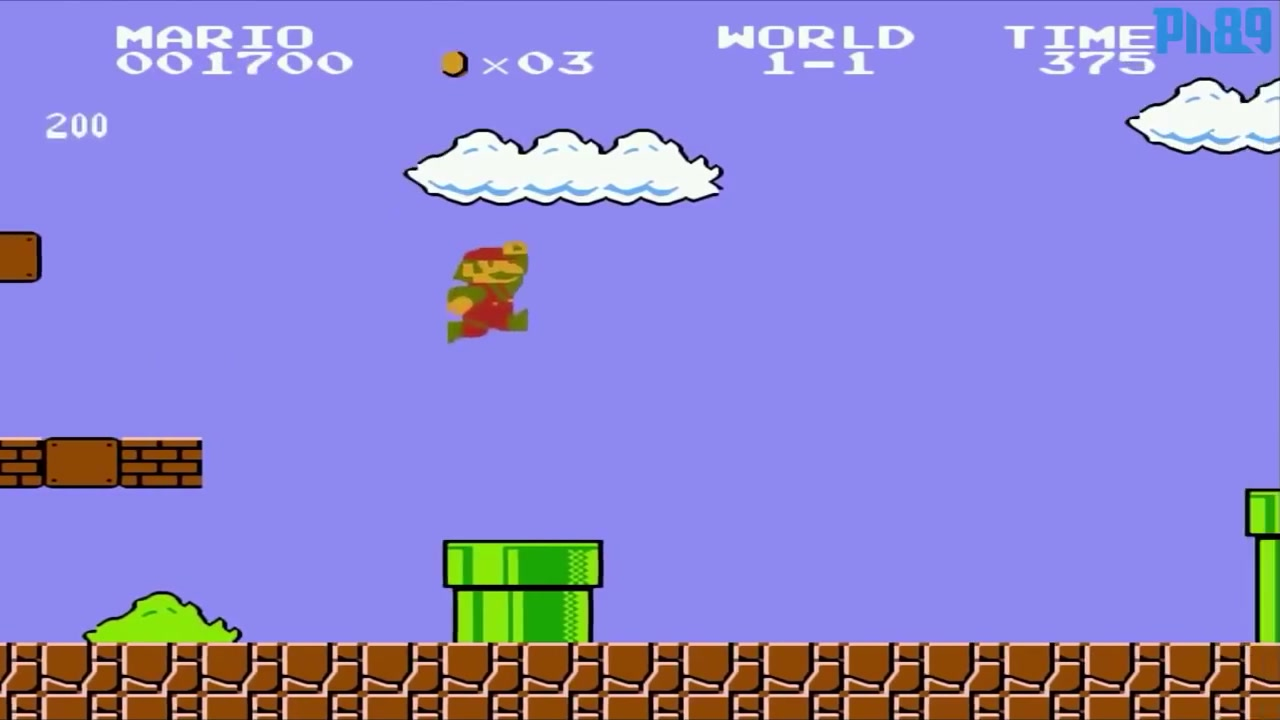mario: (444, 236, 531, 343)
